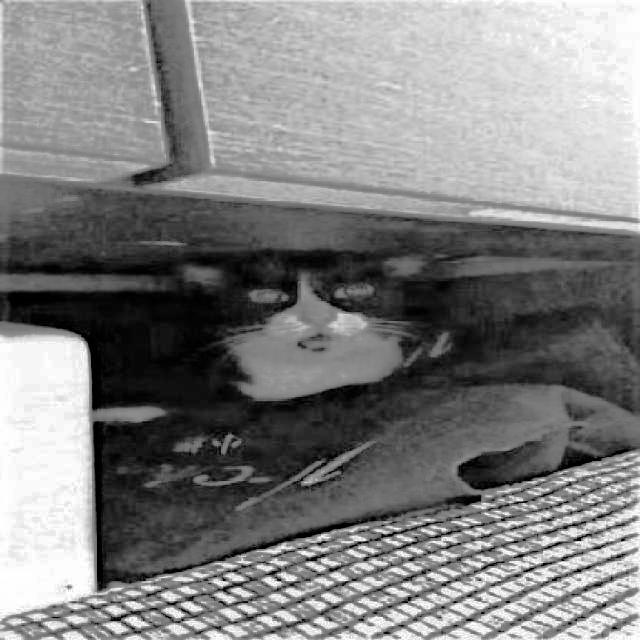Cat: (165, 235, 478, 420)
